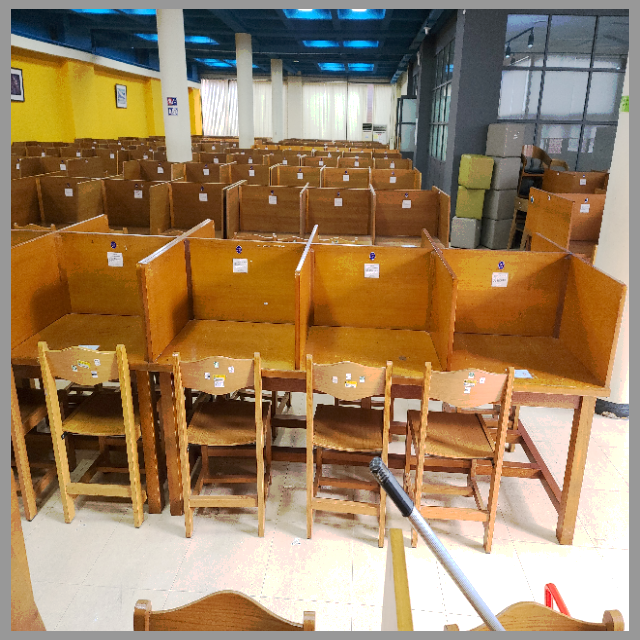empty: (457, 248, 623, 469), (146, 248, 297, 459), (301, 250, 449, 457)
